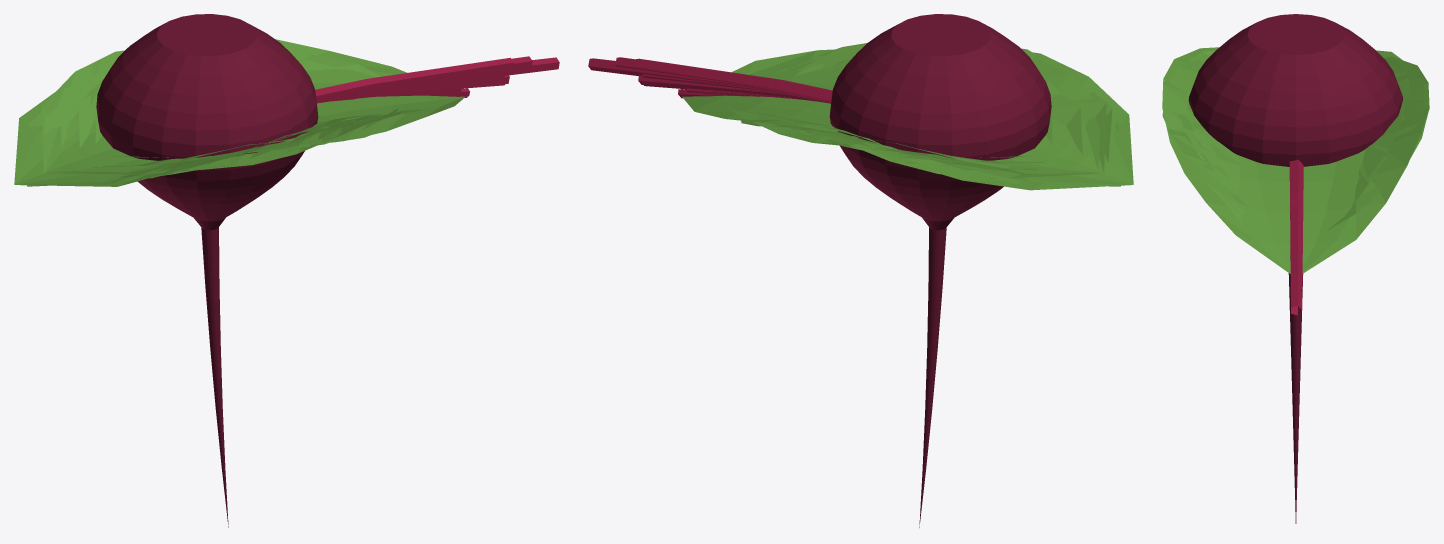
Rendered from beetroot_harvest_v23.articulated.glb.
3 views of the same model, side by side, from view 1: azimuth 30°, elevation 25°; view 2: azimuth 150°, elevation 25°; view 3: azimuth 270°, elevation 25° (orthographic). The views are drawn at different scales.
Parts seen in each view (by area): view 1: root, leaf06_link2, leaf04_link2, leaf06_link0, leaf01_link0, leaf11_link2, leaf09_link2, leaf10_link2, leaf03_link2, leaf03_link0, leaf07_link2, leaf01_link2 (+2 smaller); view 2: root, leaf06_link2, leaf04_link2, leaf01_link2, leaf03_link2, leaf01_link0, leaf09_link2, leaf06_link0, leaf04_link0; view 3: root, leaf06_link2, leaf04_link2, leaf01_link0, leaf01_link2, leaf00_link2, leaf09_link2, leaf07_link2, leaf02_link2, leaf05_link2, leaf10_link2, leaf08_link2 (+4 smaller).
Boxes of the visible parts, bbox=[...] form: root: bbox=[96, 14, 318, 527]; leaf06_link2: bbox=[14, 39, 467, 186]; leaf04_link2: bbox=[41, 50, 419, 174]; leaf06_link0: bbox=[316, 57, 559, 103]; leaf01_link0: bbox=[315, 57, 513, 96]; leaf11_link2: bbox=[60, 76, 369, 158]; leaf09_link2: bbox=[36, 55, 382, 177]; leaf10_link2: bbox=[27, 68, 381, 186]; leaf03_link2: bbox=[66, 80, 426, 167]; leaf03_link0: bbox=[343, 75, 509, 100]; leaf07_link2: bbox=[44, 59, 361, 159]; leaf01_link2: bbox=[58, 108, 398, 174]; root: bbox=[829, 14, 1051, 527]; leaf06_link2: bbox=[680, 49, 1133, 190]; leaf04_link2: bbox=[727, 43, 1106, 178]; leaf01_link2: bbox=[776, 58, 1099, 176]; leaf03_link2: bbox=[778, 51, 1082, 170]; leaf01_link0: bbox=[634, 58, 832, 100]; leaf09_link2: bbox=[823, 61, 1112, 184]; leaf06_link0: bbox=[588, 58, 831, 102]; leaf04_link0: bbox=[615, 57, 830, 101]; root: bbox=[1188, 14, 1402, 523]; leaf06_link2: bbox=[1163, 47, 1429, 273]; leaf04_link2: bbox=[1162, 52, 1428, 230]; leaf01_link0: bbox=[1289, 159, 1303, 278]; leaf01_link2: bbox=[1170, 59, 1424, 208]; leaf00_link2: bbox=[1162, 81, 1429, 130]; leaf09_link2: bbox=[1179, 50, 1423, 194]; leaf07_link2: bbox=[1192, 121, 1385, 200]; leaf02_link2: bbox=[1187, 103, 1392, 177]; leaf05_link2: bbox=[1210, 141, 1240, 188]; leaf10_link2: bbox=[1196, 55, 1409, 191]; leaf08_link2: bbox=[1187, 75, 1404, 160].
Bounding box in the file's own units: 0.2204 × 0.194 × 0.0969.
1 material, 1 textured.
